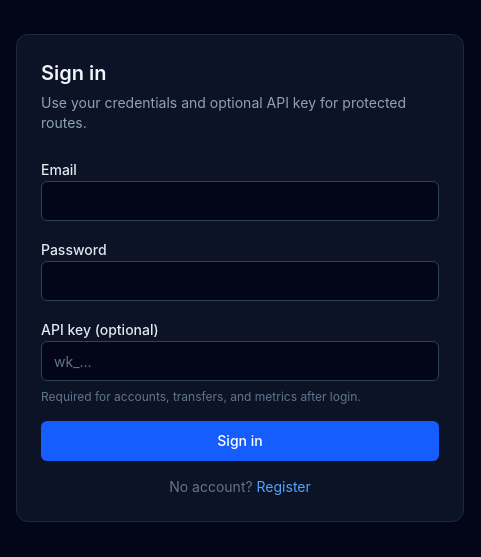
Test case: LoginPage › shows error message on 401 response
This screenshot has width=481, height=557.
Type "wrong@test.com" into the field labelled "Email" at [240, 201], box top-left (41, 181), bottom-right (439, 221)
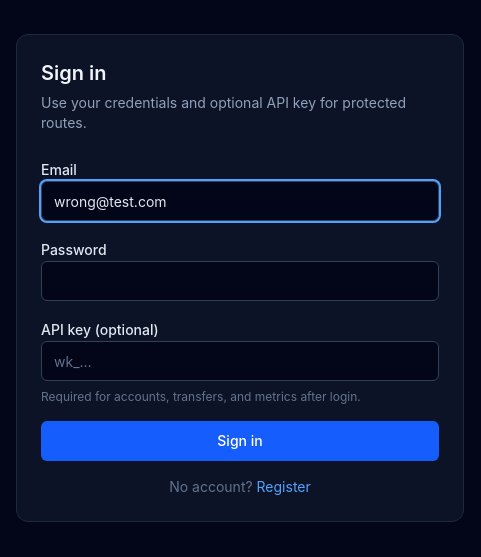
Type "wrongpass" into the password field labelled "Password" at [240, 281], box top-left (41, 261), bottom-right (439, 301)
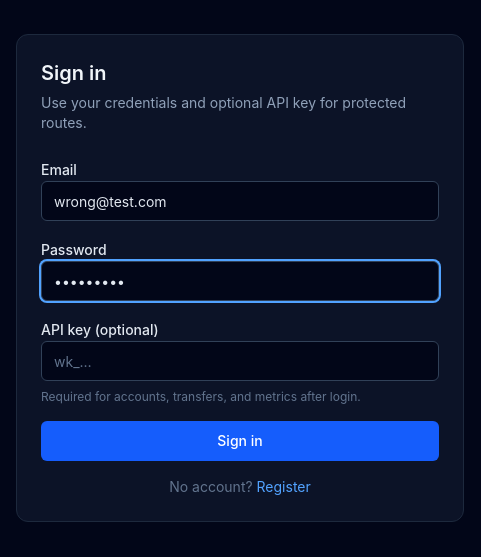
Click the button "Sign in" at [240, 441], box top-left (41, 421), bottom-right (439, 461)
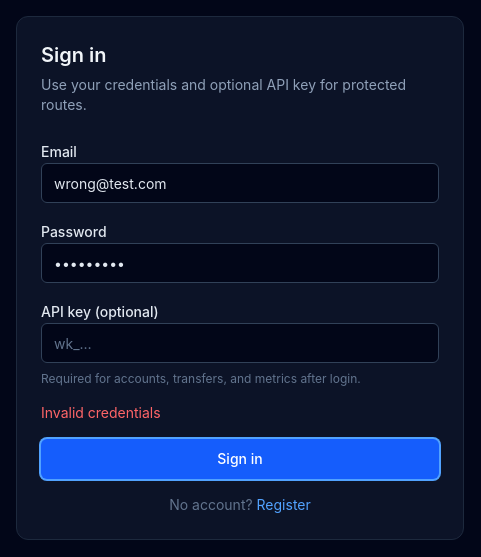
Now the text "Invalid credentials" is shown, box top-left (41, 404), bottom-right (161, 421)
